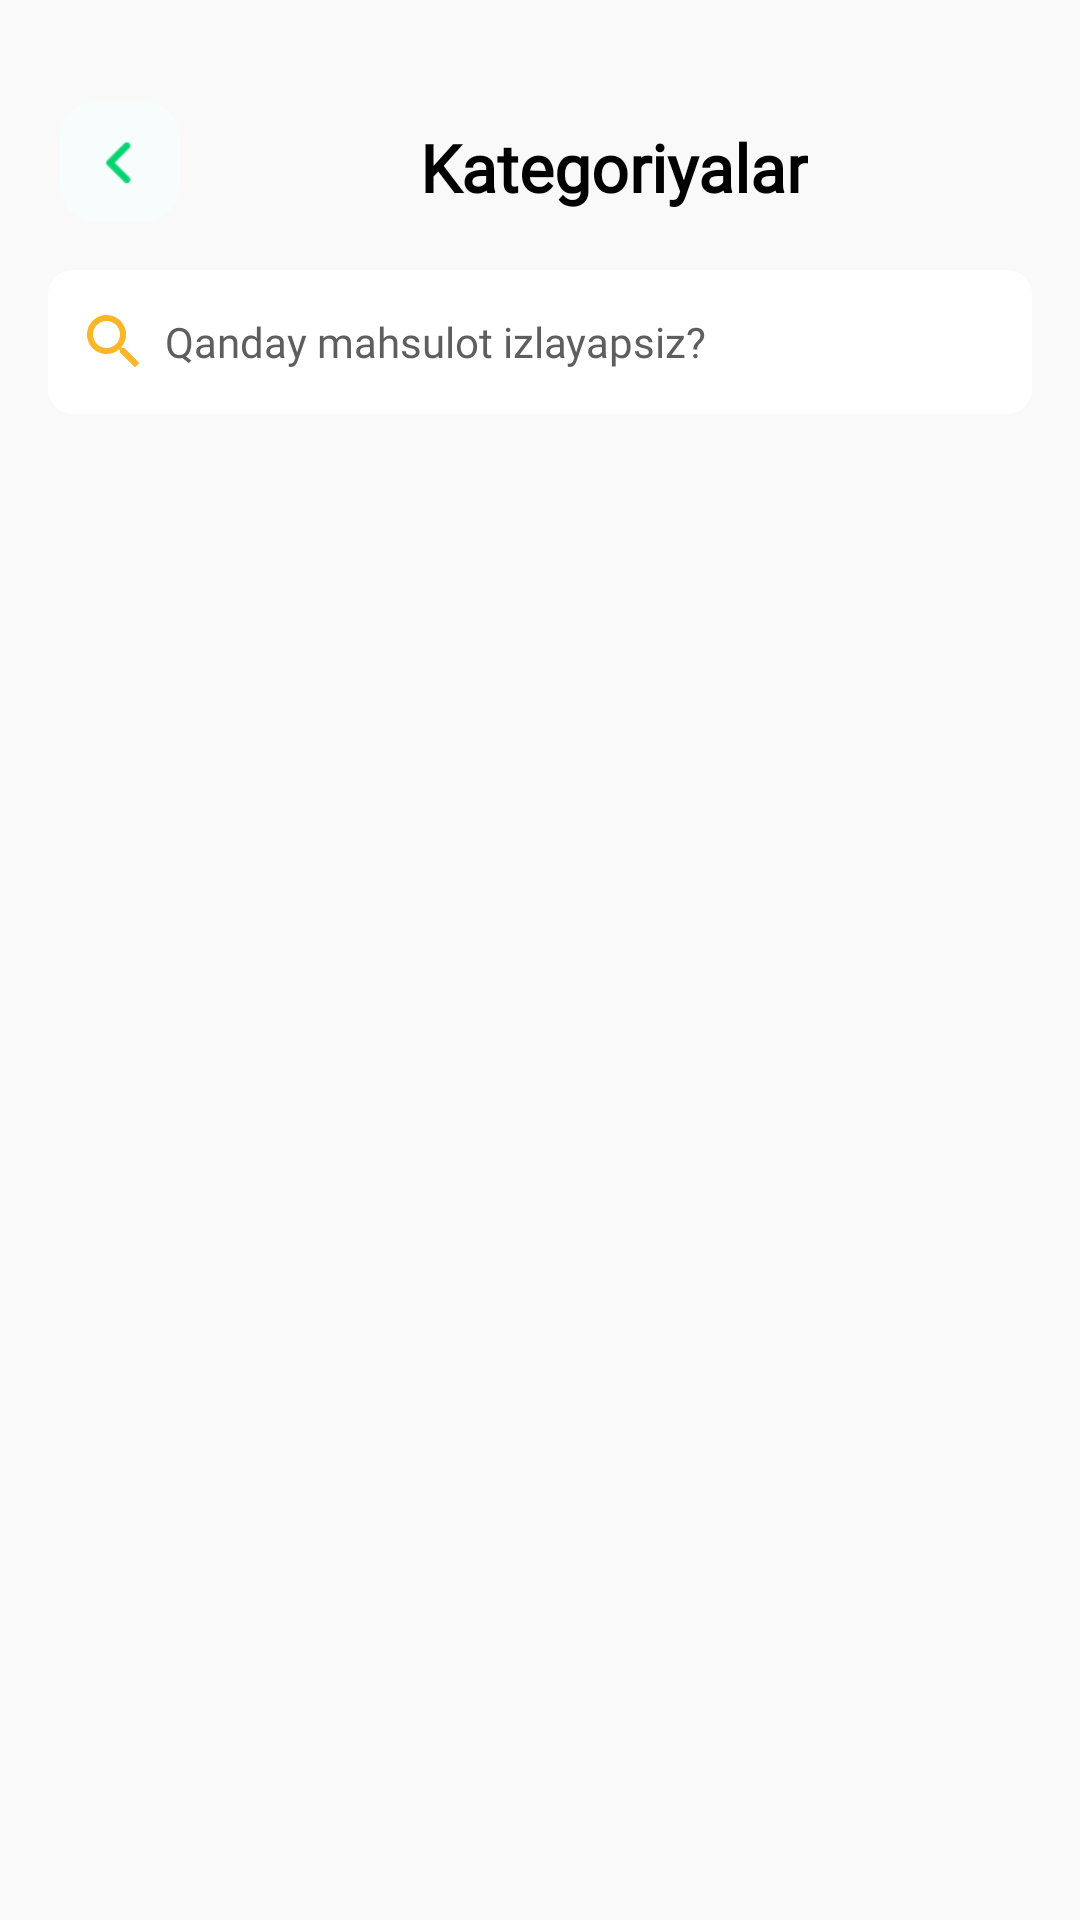

Screen size 1080px x 1920px. Icon name, then its center in pixels as (x,y):
back: (118,163)
